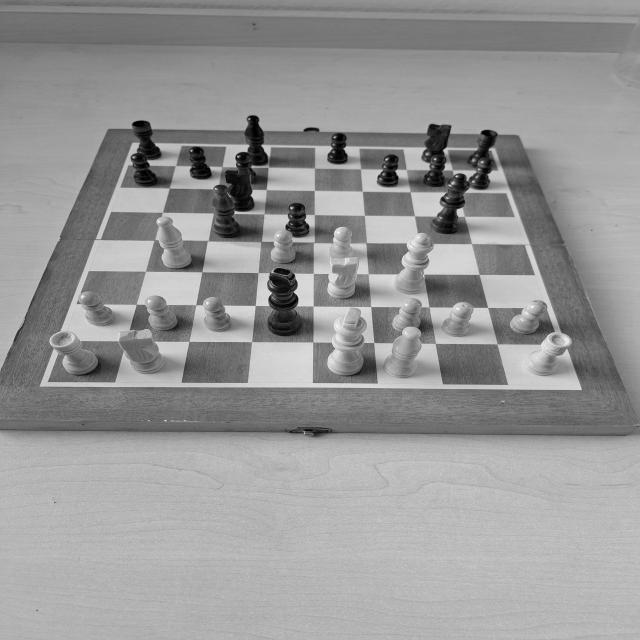chess-table-corners: (560, 376, 588, 394), (35, 372, 63, 390), (127, 140, 141, 150), (485, 146, 497, 154)
